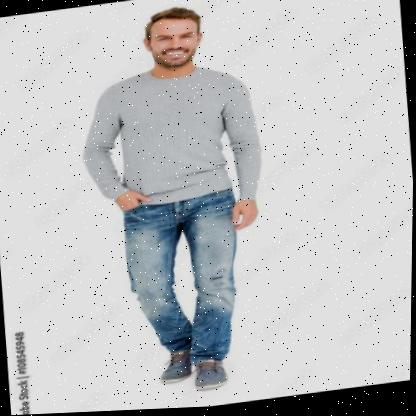person: (67, 0, 285, 406)
